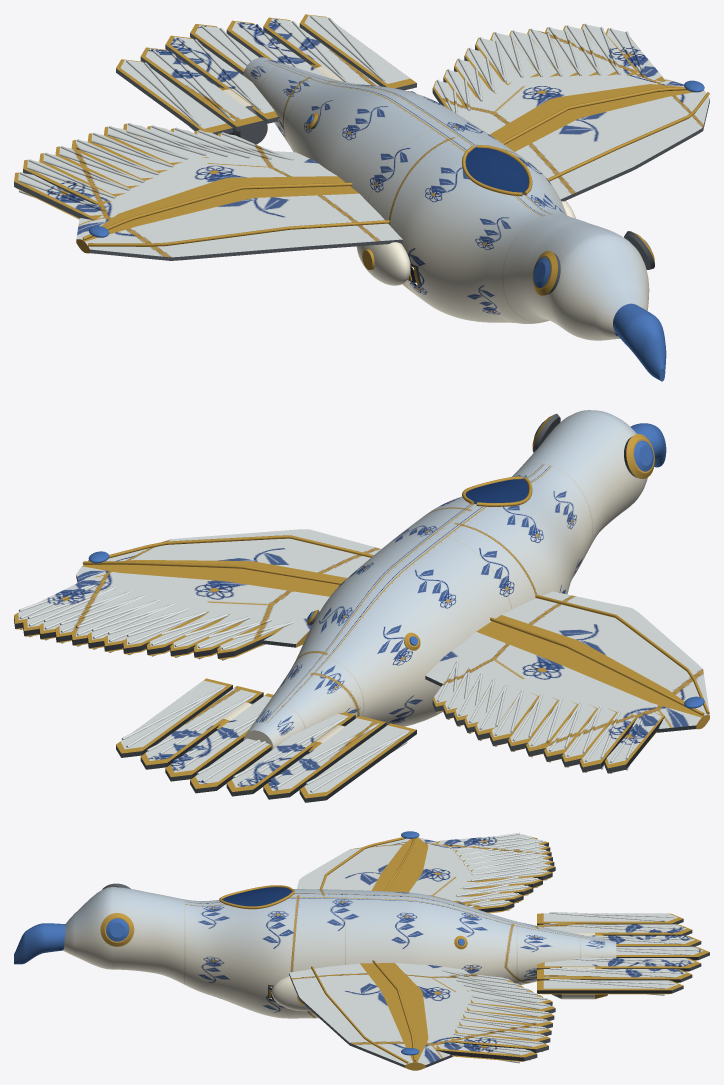
3 views of the same model, one above another, from view 1: azimuth 30°, elevation 25°; view 2: azimuth 150°, elevation 25°; view 3: azimuth 270°, elevation 25° (orthographic). The views are drawn at different scales.
Visible parts, largest first — view 1: oxpecker_hull; view 2: oxpecker_hull; view 3: oxpecker_hull.
Part boxes in pixels (x1,y1,x2,y2): oxpecker_hull: [14, 14, 709, 381]; oxpecker_hull: [14, 410, 709, 802]; oxpecker_hull: [14, 831, 709, 1070].
Size of the model in its own units: 12.31 by 3.09 by 16.
Materials: 1 (1 with a texture image).
